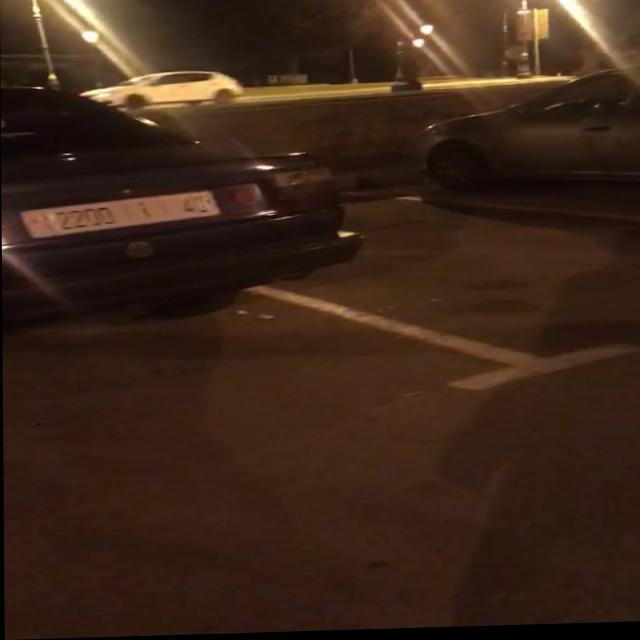License-Plate: (21, 191, 220, 237)
